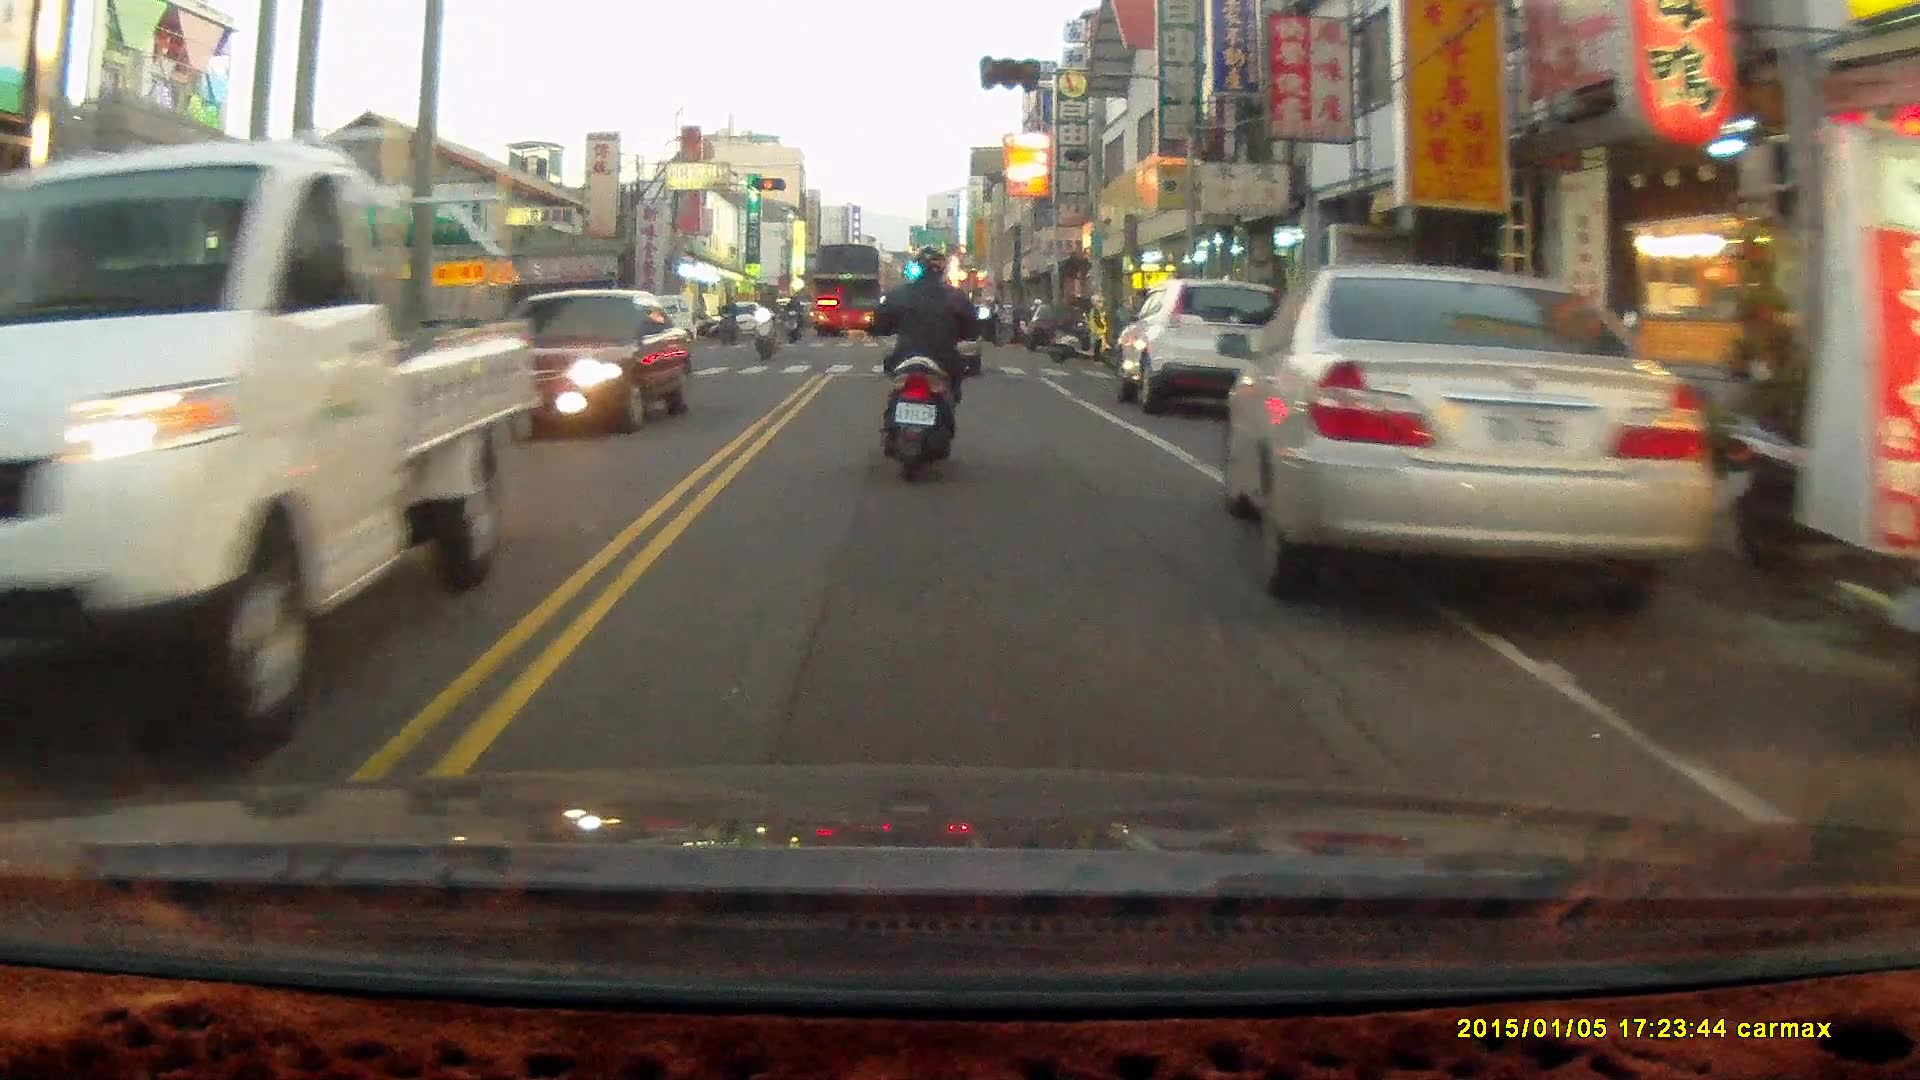pedestrian: (1084, 290, 1108, 366)
rider: (868, 246, 990, 483), (748, 283, 778, 358), (716, 292, 738, 346), (783, 290, 803, 347)
vehicle: (7, 139, 518, 762), (1217, 265, 1700, 623), (463, 289, 699, 446), (1118, 277, 1287, 413), (808, 246, 890, 337)
